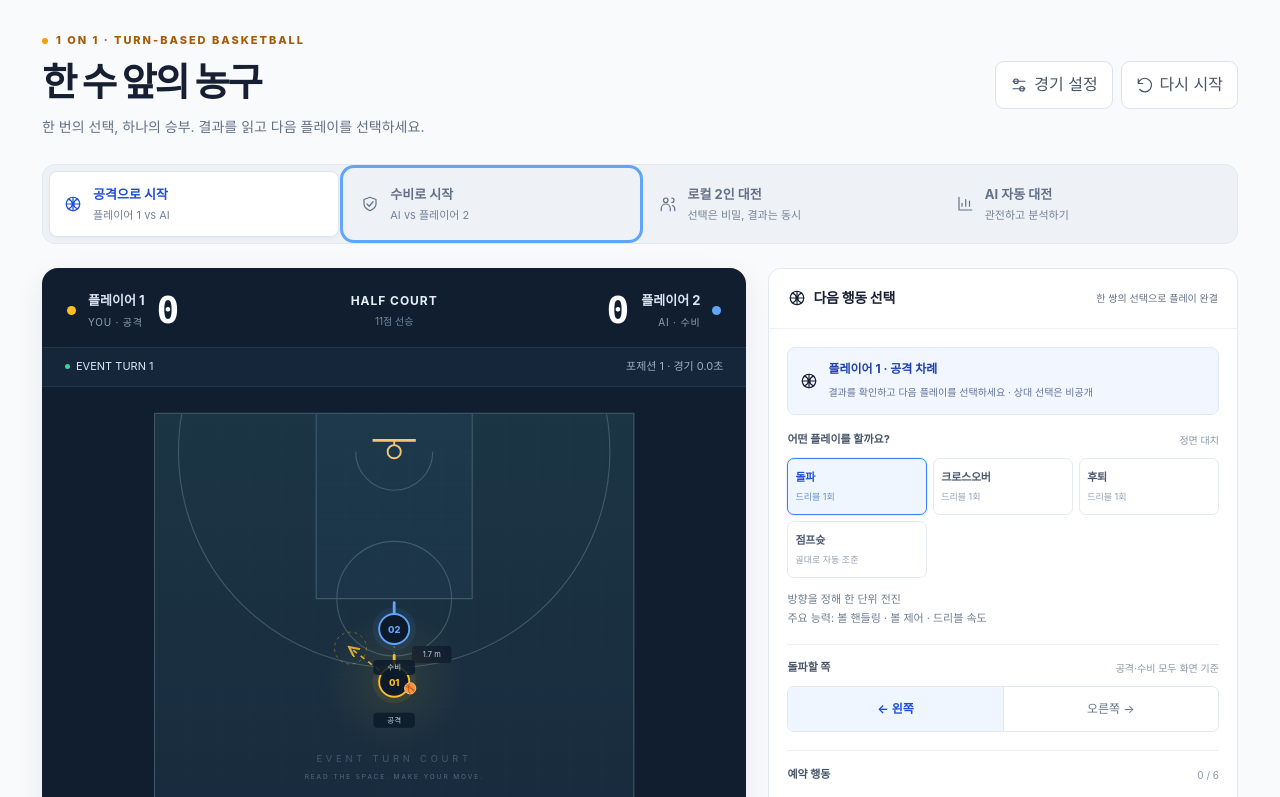
it: 너비 1440px 환경의 DOM 의미 구조 (시각적 브라우저 검증 아님) › 주요 구역·입력 레이블·상태 미터에 접근할 수 있다
Check: the heading "다음 행동 선택" is shown, box left=788, top=287, right=895, bottom=310
Click the button "수비로 시작 AI vs 플레이어 2" at (422, 194), box left=346, top=171, right=637, bottom=237
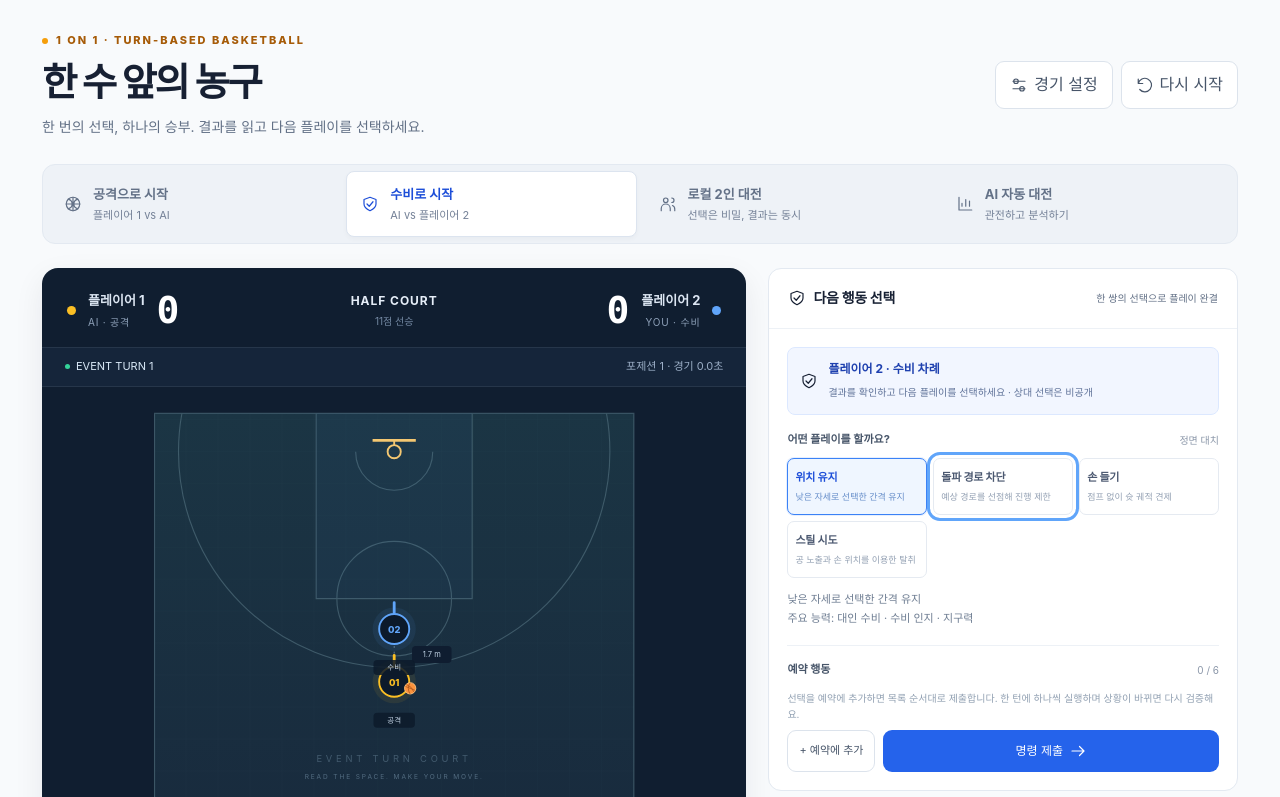
Click the button "돌파 경로 차단 예상 경로를 선점해 진행 제한" at (1003, 487), box left=933, top=458, right=1073, bottom=515
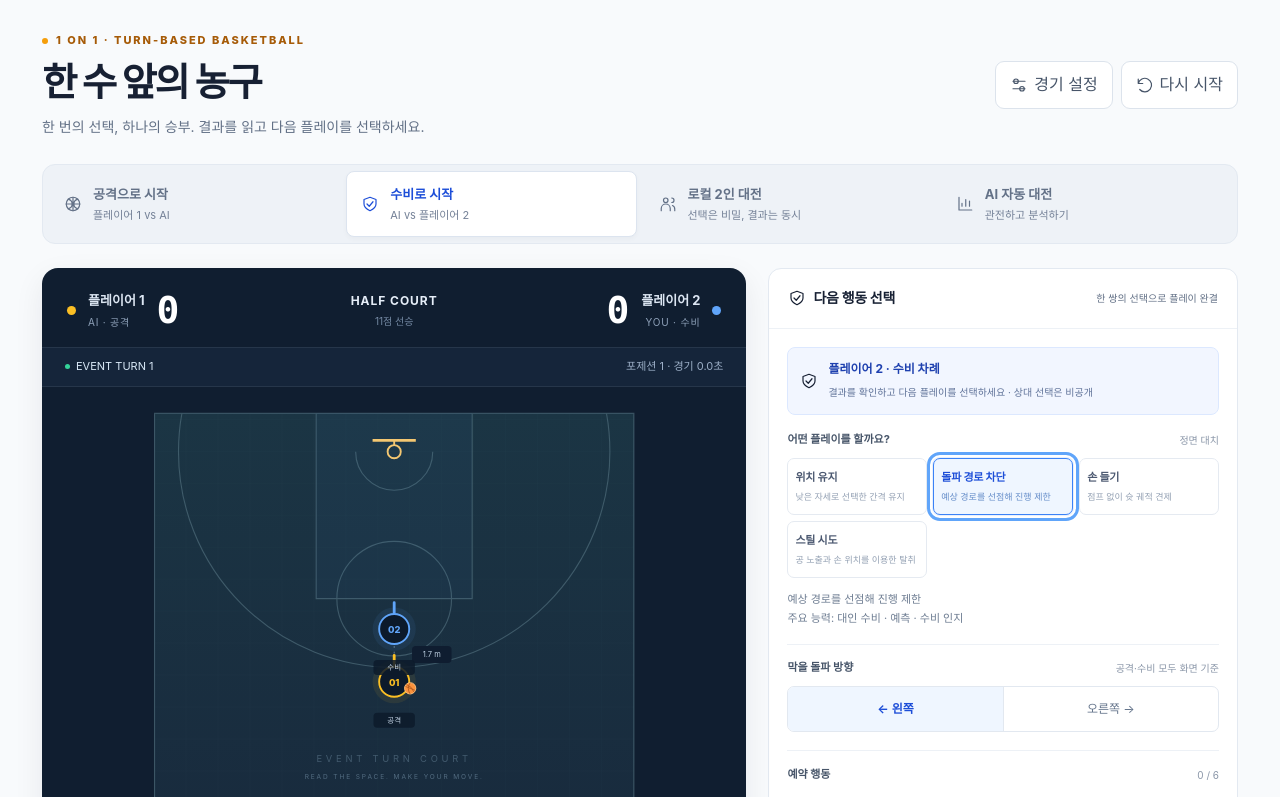
Check: the element named "예상 돌파 방향" is shown, box left=787, top=686, right=1219, bottom=732
Check: the button "오른쪽 →" is shown, box left=1004, top=687, right=1218, bottom=731
